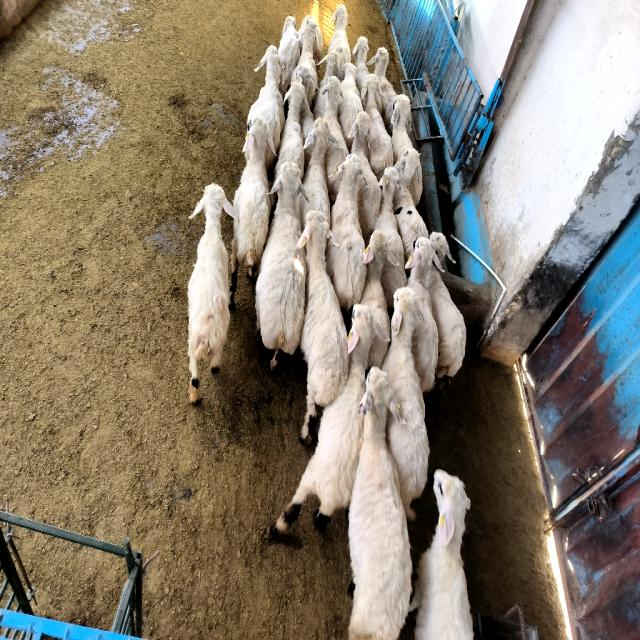sheep: (276, 305, 375, 532), (349, 368, 411, 639), (298, 210, 349, 440), (409, 470, 474, 639), (382, 287, 429, 514), (188, 183, 236, 403), (256, 162, 306, 369), (230, 117, 272, 306), (326, 155, 366, 311), (405, 237, 440, 392), (248, 45, 285, 171), (361, 230, 395, 367), (425, 265, 466, 378), (375, 167, 406, 311), (349, 112, 381, 242), (392, 148, 429, 259), (361, 73, 394, 180), (322, 77, 349, 203), (299, 118, 330, 226), (275, 82, 309, 178), (291, 15, 324, 106), (368, 47, 398, 131), (338, 62, 362, 149), (278, 17, 300, 93), (391, 93, 412, 162), (329, 5, 351, 66), (352, 37, 369, 92), (430, 232, 452, 261), (409, 167, 422, 204), (300, 108, 312, 138)
